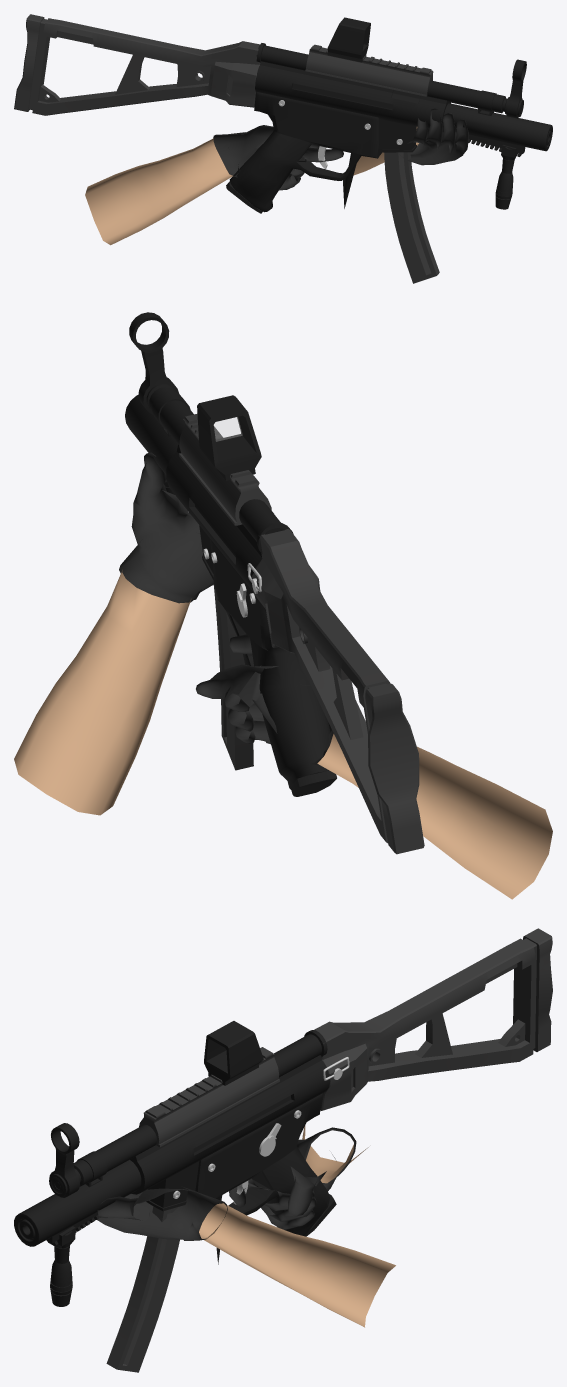
The model's file is mp5-rig-15.glb.
The picture shows the model from 3 angles, top to bottom: view 1: azimuth 30°, elevation 25°; view 2: azimuth 150°, elevation 25°; view 3: azimuth 270°, elevation 25°; orthographic projection. The views are drawn at different scales.
Parts seen in each view (by area): view 1: Plan012.010; view 2: Plan012.010; view 3: Plan012.010.
Boxes of the visible parts, left/top/right/bottom form: Plan012.010: left=14, top=14, right=552, bottom=283; Plan012.010: left=14, top=312, right=552, bottom=899; Plan012.010: left=14, top=928, right=552, bottom=1372.
Bounding box in the file's own units: 0.1161 × 0.0755 × 0.1135.
